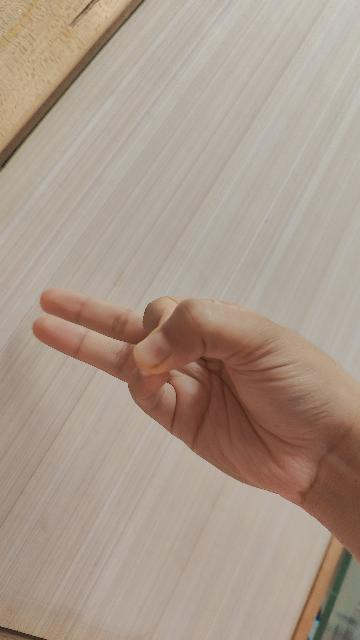katak: (33, 289, 360, 569)
